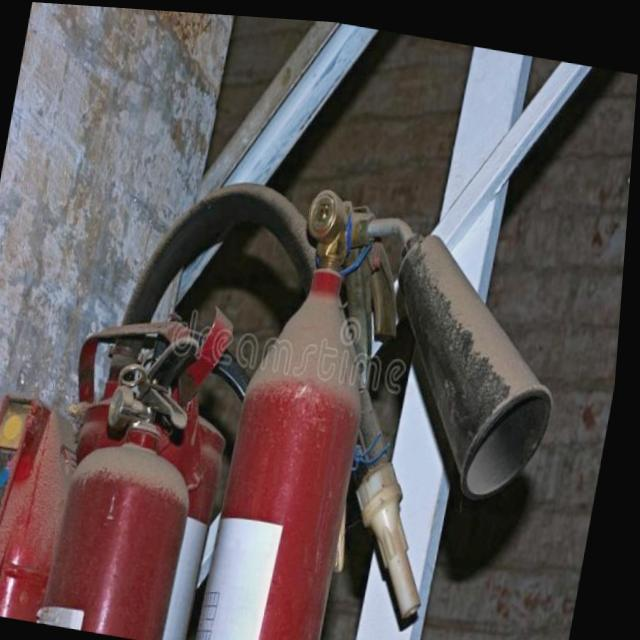FireExtinguisher: (197, 167, 593, 640), (35, 281, 252, 640)
